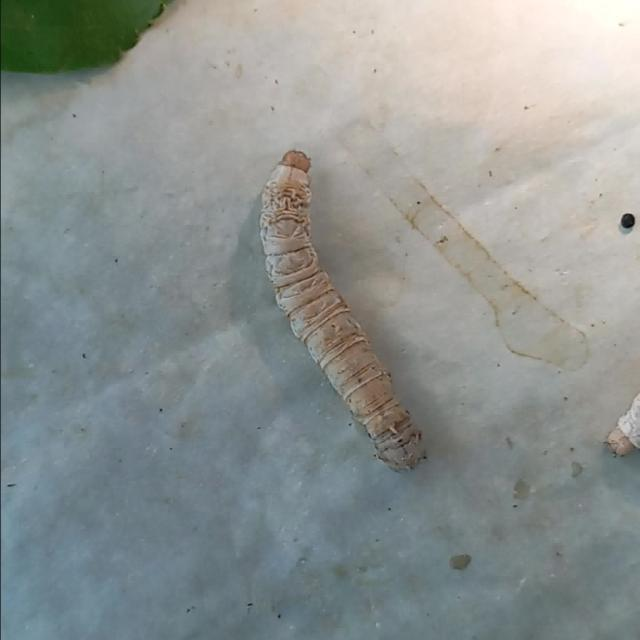Grasserie: (244, 139, 438, 476)
